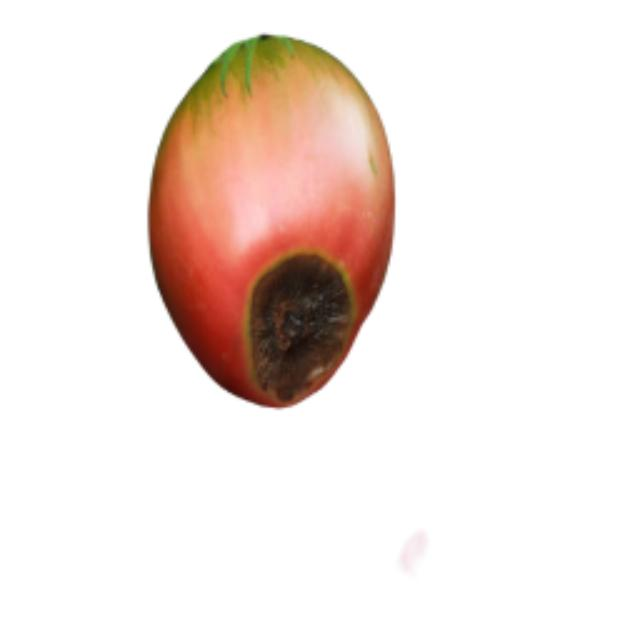defect: (138, 24, 408, 415)
